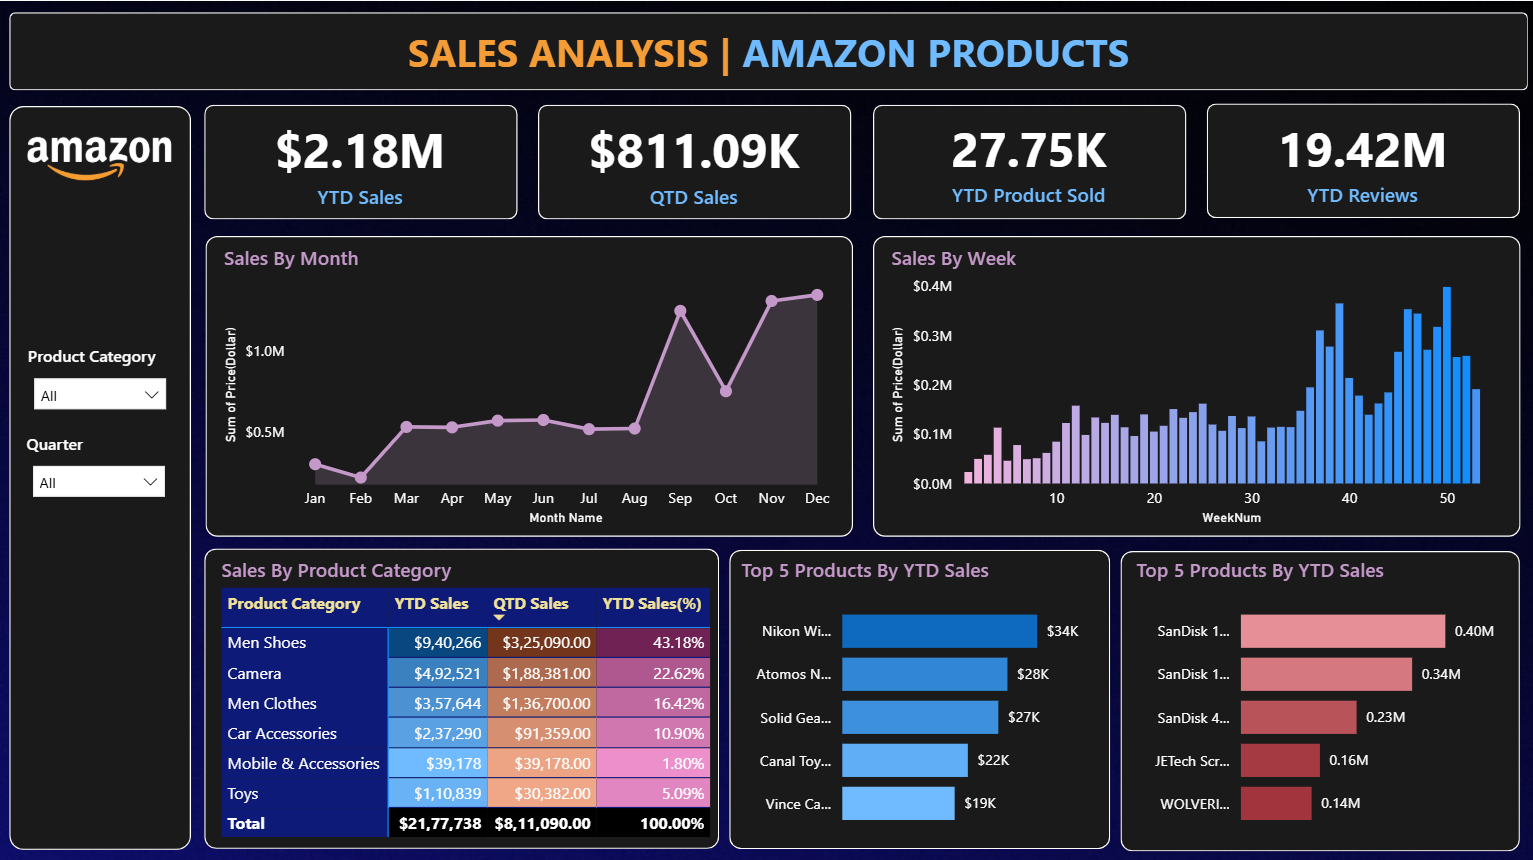

The page's visual inventory and layout, read from the dashboard file:
{"tool":"powerbi","page":{"name":"Page 1","canvas":[1280,720],"ordinal":0},"visuals":[{"type":"shape","box":[9.3,9.3,1262.8,65.1],"z":0},{"type":"textbox","box":[9.3,15.1,1262.8,52.3],"z":1000},{"type":"shape","box":[9.3,87.2,151.2,618.6],"z":2000},{"type":"image","box":[19.8,103.5,130.2,61.6],"z":3000},{"type":"shape","box":[171.9,86.2,260.5,95.3],"z":4000,"group":"g1"},{"type":"group","id":"g1","title":"Group 1","box":[171.9,84.9,1093.9,96.1],"z":4000},{"type":"card","fields":{"Values":["Amazon_Data.YTD Sales"]},"box":[181.2,86.1,240.7,95.3],"z":5000,"group":"g1"},{"type":"shape","box":[172.1,195.3,538.4,250],"z":5000},{"type":"shape","box":[449.8,86.2,260.5,95.3],"z":6000,"group":"g1"},{"type":"areaChart","title":"Sales By Month","fields":{"Category":["Table.Month Name"],"Y":["Sum(Amazon_Data.Price(Dollar))"]},"box":[182.6,201.2,518.6,239.5],"z":6000},{"type":"shape","box":[727.7,86.2,260.5,95.3],"z":7000,"group":"g1"},{"type":"shape","box":[727.9,195.3,538.4,250],"z":7000},{"type":"shape","box":[1005.6,85.1,260.5,95.3],"z":8000,"group":"g1"},{"type":"columnChart","title":"Sales By Week","fields":{"Category":["Table.WeekNum"],"Y":["Sum(Amazon_Data.Price(Dollar))"]},"box":[738.4,201.2,519.8,239.5],"z":8000},{"type":"card","fields":{"Values":["Amazon_Data.QTD Sales"]},"box":[459.1,86.1,240.7,95.3],"z":9000,"group":"g1"},{"type":"shape","box":[171.5,455.6,428.1,249.7],"z":9000},{"type":"card","fields":{"Values":["Amazon_Data.YTD Product Sold"]},"box":[737,84.9,240.7,95.3],"z":10000,"group":"g1"},{"type":"pivotTable","title":"Sales By Product Category ","fields":{"Rows":["Amazon_Data.Product Category"],"Values":["Amazon_Data.YTD Sales1","Amazon_Data.QTD Sales","Amazon_Data.YTD Sales"]},"box":[181.1,461.1,418.5,240.1],"z":10000},{"type":"card","fields":{"Values":["Amazon_Data.YTD Reviews"]},"box":[1014.9,84.9,240.7,95.3],"z":11000,"group":"g1"},{"type":"shape","box":[607.7,456.7,316.7,248.9],"z":11000},{"type":"barChart","title":"Top 5 Products By YTD Sales","fields":{"Category":["Amazon_Data.Product Description"],"Y":["Amazon_Data.YTD Sales"]},"box":[613.2,461.1,302.2,240],"z":12000},{"type":"shape","box":[933.1,456.9,332.1,249.7],"z":13000},{"type":"barChart","title":"Top 5 Products By YTD Sales","fields":{"Category":["Amazon_Data.Product Description"],"Y":["Amazon_Data.YTD Reviews"]},"box":[941.1,461.1,314.4,240],"z":14000},{"type":"slicer","title":"Product Category","fields":{"Values":["Amazon_Data.Product Category"]},"box":[20,285.4,130,64.4],"z":15000},{"type":"slicer","title":"Quarter","fields":{"Values":["Table.qtr"]},"box":[18.9,358.8,130,64.4],"z":16000}]}

Visuals, with their boxes in screenshot pixels (x1, y1, x2, y2), scaled from the page's 1280x720 canvas onto the 1533x860 screenshot:
shape: bbox=[11, 11, 1524, 89]
textbox: bbox=[11, 18, 1524, 81]
shape: bbox=[11, 104, 192, 843]
image: bbox=[24, 124, 180, 197]
shape: bbox=[206, 103, 518, 217]
"Group 1" group: bbox=[206, 101, 1516, 216]
card - Amazon_Data.YTD Sales: bbox=[217, 103, 505, 217]
shape: bbox=[206, 233, 851, 532]
shape: bbox=[539, 103, 851, 217]
"Sales By Month" areaChart: bbox=[219, 240, 840, 526]
shape: bbox=[872, 103, 1184, 217]
shape: bbox=[872, 233, 1517, 532]
shape: bbox=[1204, 102, 1516, 215]
"Sales By Week" columnChart: bbox=[884, 240, 1507, 526]
card - Amazon_Data.QTD Sales: bbox=[550, 103, 838, 217]
shape: bbox=[205, 544, 718, 842]
card - Amazon_Data.YTD Product Sold: bbox=[883, 101, 1171, 215]
"Sales By Product Category " pivotTable: bbox=[217, 551, 718, 838]
card - Amazon_Data.YTD Reviews: bbox=[1216, 101, 1504, 215]
shape: bbox=[728, 546, 1107, 843]
"Top 5 Products By YTD Sales" barChart: bbox=[734, 551, 1096, 837]
shape: bbox=[1118, 546, 1515, 844]
"Top 5 Products By YTD Sales" barChart: bbox=[1127, 551, 1504, 837]
"Product Category" slicer: bbox=[24, 341, 180, 418]
"Quarter" slicer: bbox=[23, 429, 178, 505]
